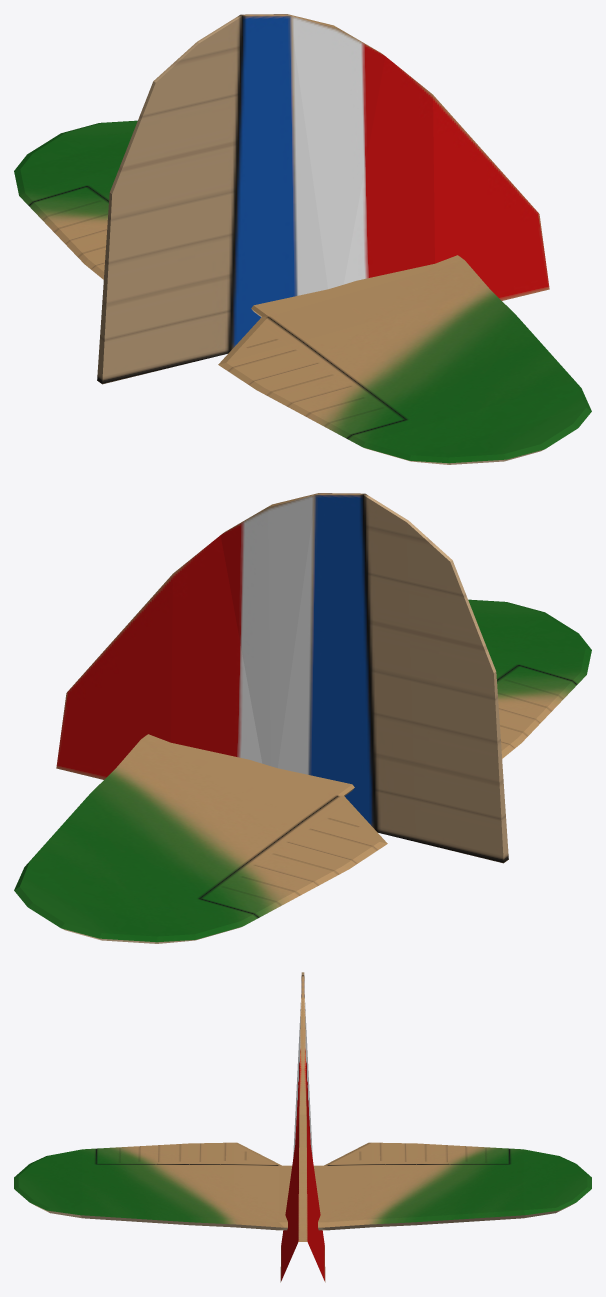
File: Tail.FBX
3 renders of one model, top to bottom at view 1: azimuth 30°, elevation 25°; view 2: azimuth 150°, elevation 25°; view 3: azimuth 270°, elevation 25°, orthographic. The views are drawn at different scales.
Parts seen in each view (by area): view 1: Tail; view 2: Tail; view 3: Tail.
Part boxes in pixels (<box>): Tail: <box>14,14,591,464</box>; Tail: <box>14,493,591,943</box>; Tail: <box>14,972,591,1282</box>.
Size of the model in its own units: 62.54 by 45.57 by 111.
